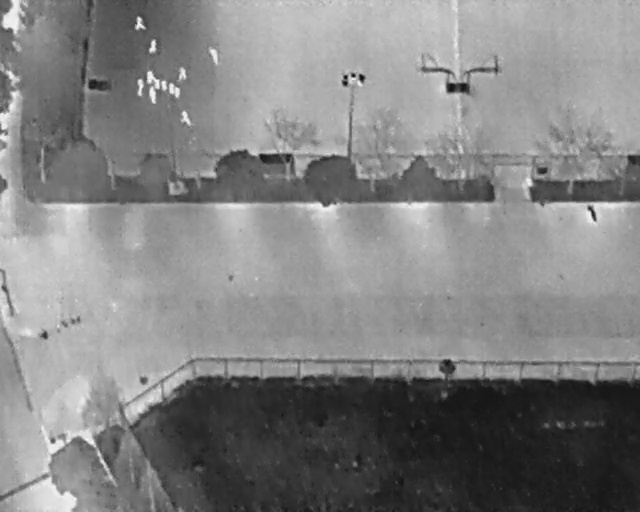Person: (134, 16, 147, 31), (180, 110, 192, 126), (209, 47, 218, 64), (148, 39, 158, 54), (149, 86, 157, 104), (178, 66, 187, 81), (146, 70, 154, 85), (137, 79, 144, 96), (161, 80, 168, 92), (154, 78, 161, 90), (175, 86, 181, 99), (169, 82, 175, 95)
